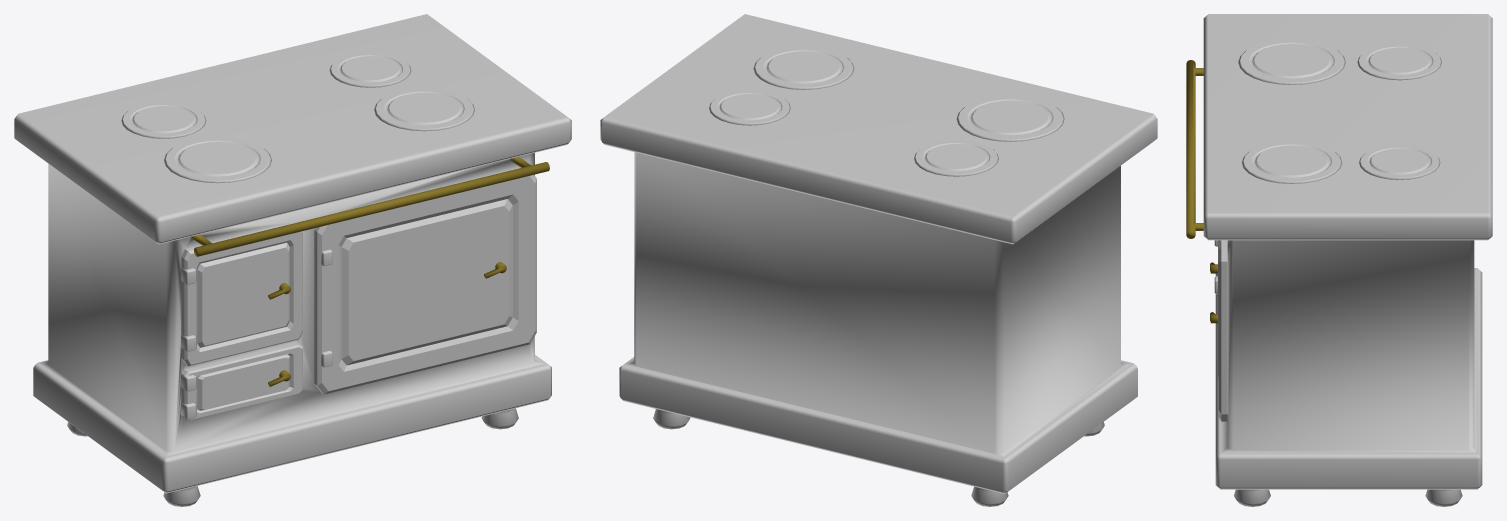
The model's file is K01_Cast_Iron_Range.fbx.
The picture shows the model from 3 angles, left to right: view 1: azimuth 30°, elevation 25°; view 2: azimuth 150°, elevation 25°; view 3: azimuth 270°, elevation 25°; orthographic projection.
Parts seen in each view (by area): view 1: K01_Cast_Iron_Range; view 2: K01_Cast_Iron_Range; view 3: K01_Cast_Iron_Range.
Boxes of the visible parts, box(x1,y1,x2,y2) form: K01_Cast_Iron_Range: box(14, 14, 571, 506); K01_Cast_Iron_Range: box(600, 14, 1157, 506); K01_Cast_Iron_Range: box(1186, 14, 1492, 506).
Size of the model in its own units: 1.21 by 0.872 by 0.774.
